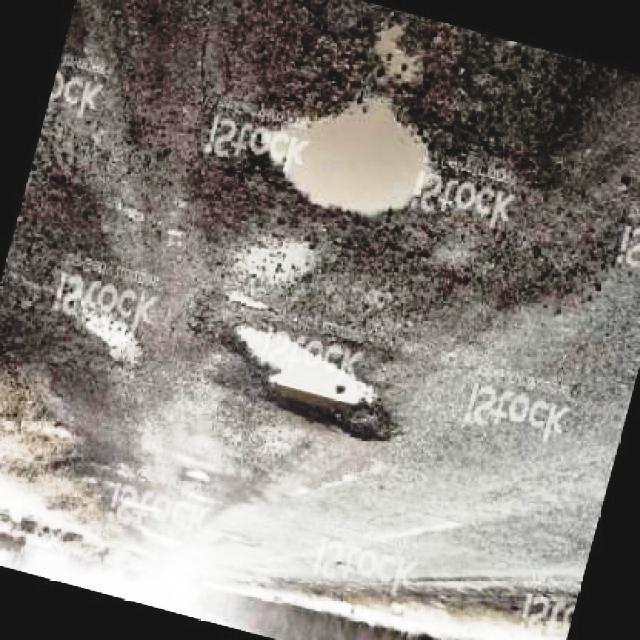pothole: (220, 318, 397, 448), (257, 92, 440, 217), (363, 2, 439, 98), (77, 300, 146, 377)
